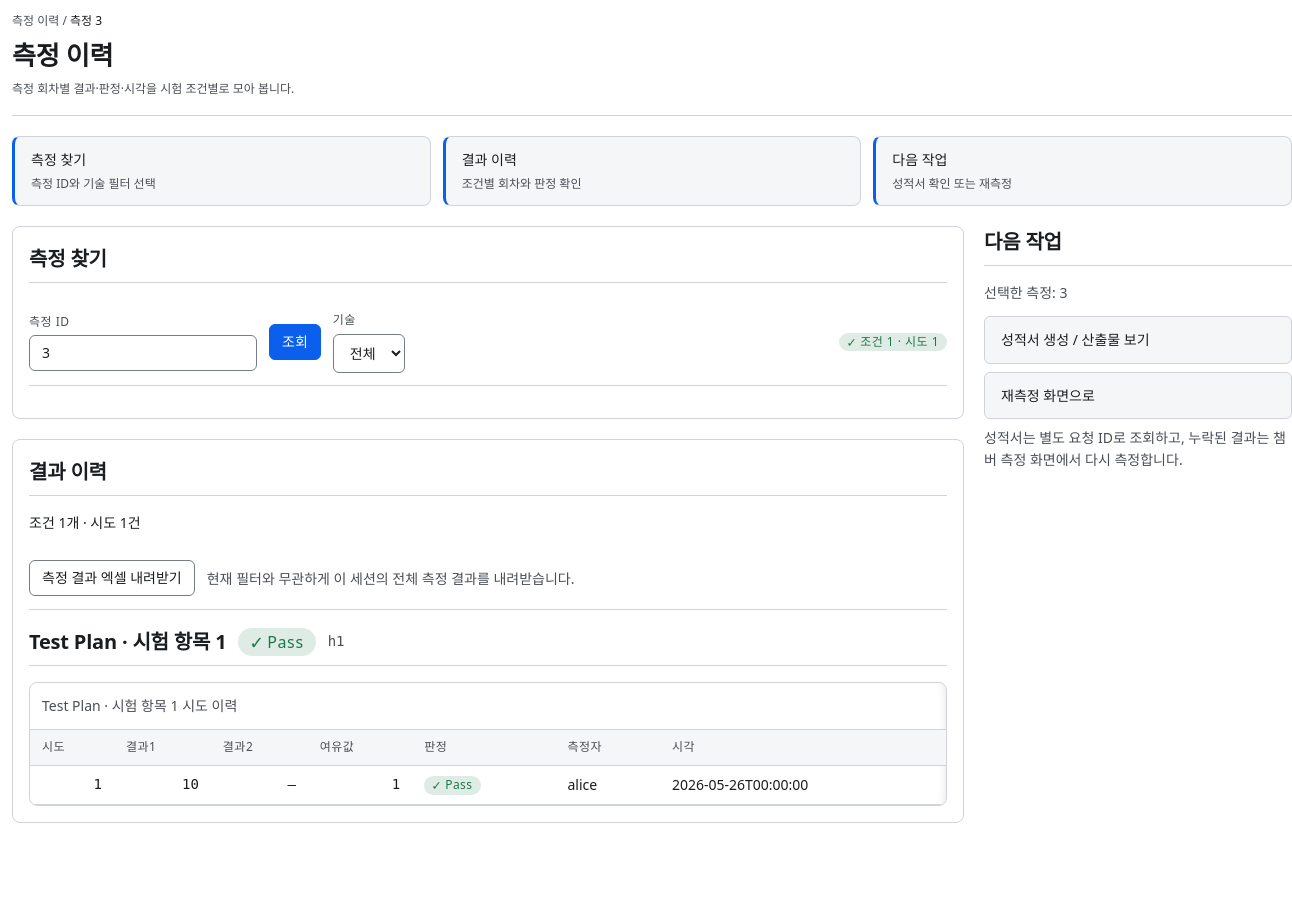
Test case: SessionsRoute measurement-result export › says the session measured nothing on 422 SESSION_RESULTS_EMPTY
Click the button with test id "sessions-export" at (112, 578), box [29, 560, 195, 596]
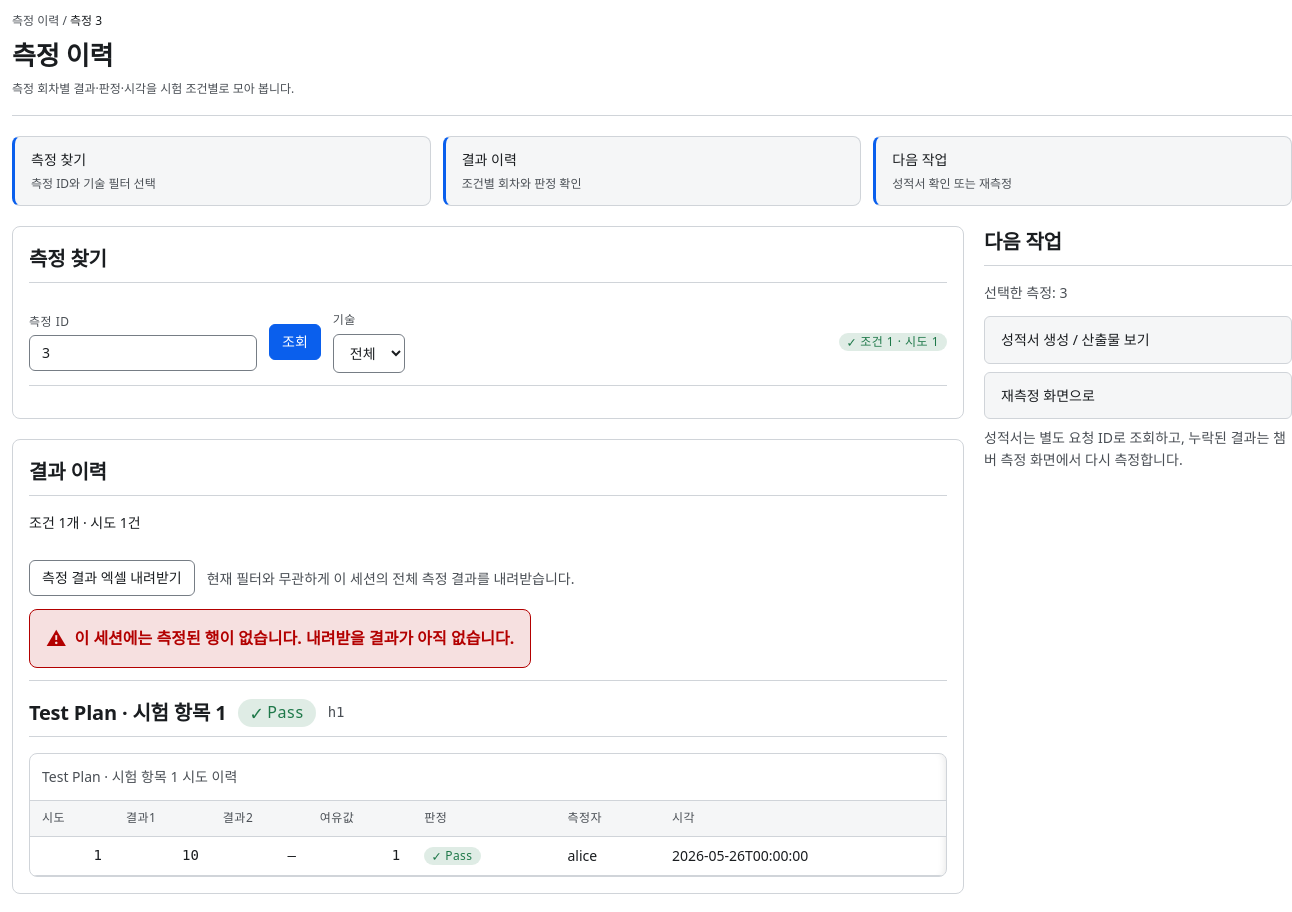
Check: the message with test id "sessions-export-error" does not show "입력을 확인해 주세요", box [29, 609, 531, 668]
Check: the message with test id "sessions-export-error" shows "측정된 행이 없습니다", box [74, 627, 514, 649]
